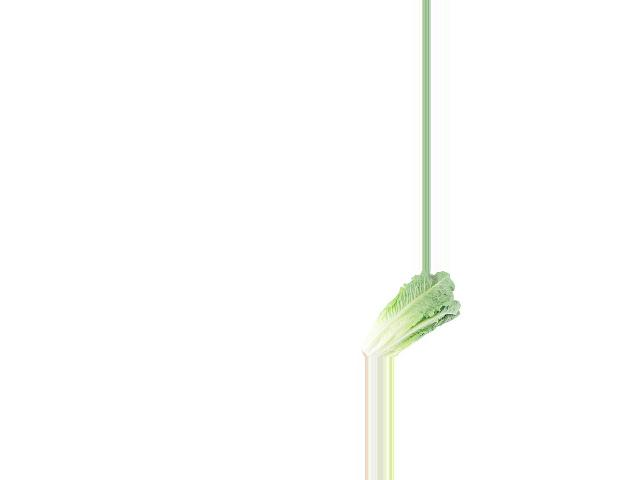lettuce: (360, 271, 462, 357)
